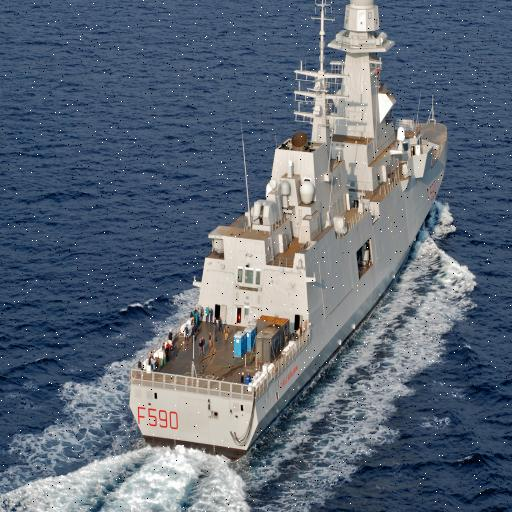Fragata: (209, 1, 360, 475)
